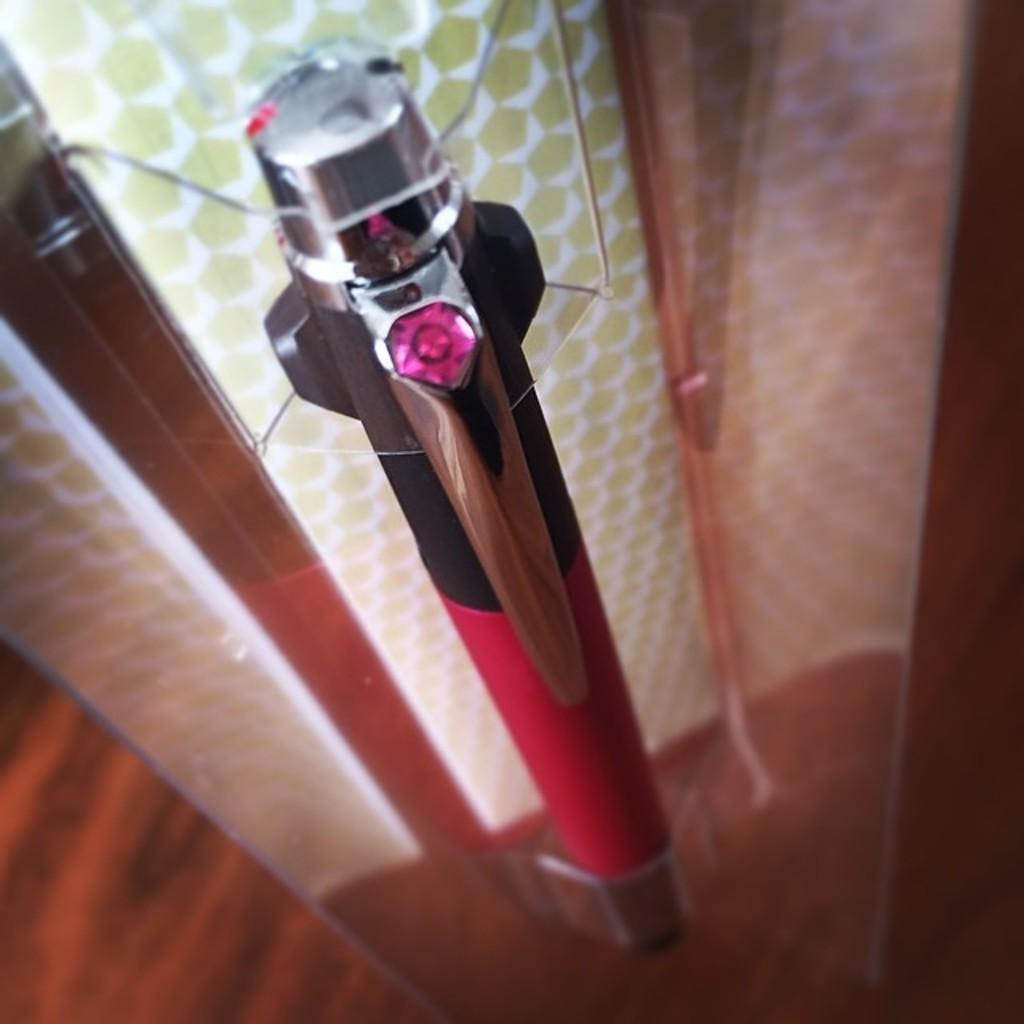pen: (246, 42, 699, 947)
